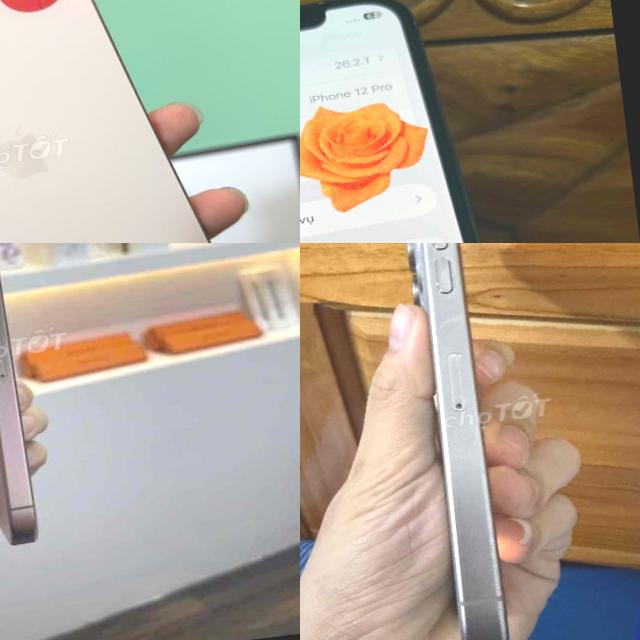scratch: (429, 302, 471, 342)
